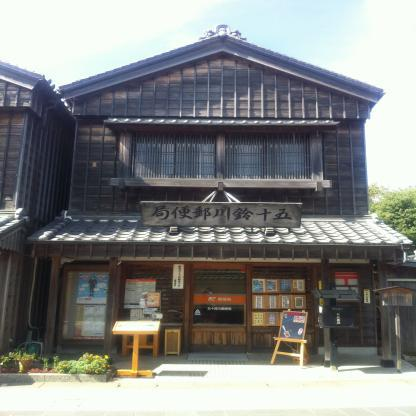Blind: (127, 130, 217, 180), (223, 132, 312, 180)
Building Outline: (26, 24, 414, 355)
Dont: (311, 287, 362, 373)
Door: (188, 264, 247, 353)
Facade: (95, 83, 341, 354)
Floor Slab: (68, 216, 370, 223)
Ground Floor: (57, 223, 378, 355)
Pillar: (377, 260, 396, 368), (44, 257, 61, 363), (103, 256, 118, 365), (321, 259, 334, 368)
Roof: (58, 24, 385, 95), (26, 210, 414, 250), (103, 117, 340, 125)
Shop: (112, 279, 163, 378), (140, 201, 302, 229), (73, 272, 109, 340), (270, 309, 309, 369), (252, 279, 305, 293), (252, 295, 305, 309)
Top Floor: (68, 97, 370, 217)
Window: (127, 130, 217, 180), (223, 132, 312, 180), (120, 263, 186, 327), (251, 264, 314, 329)
